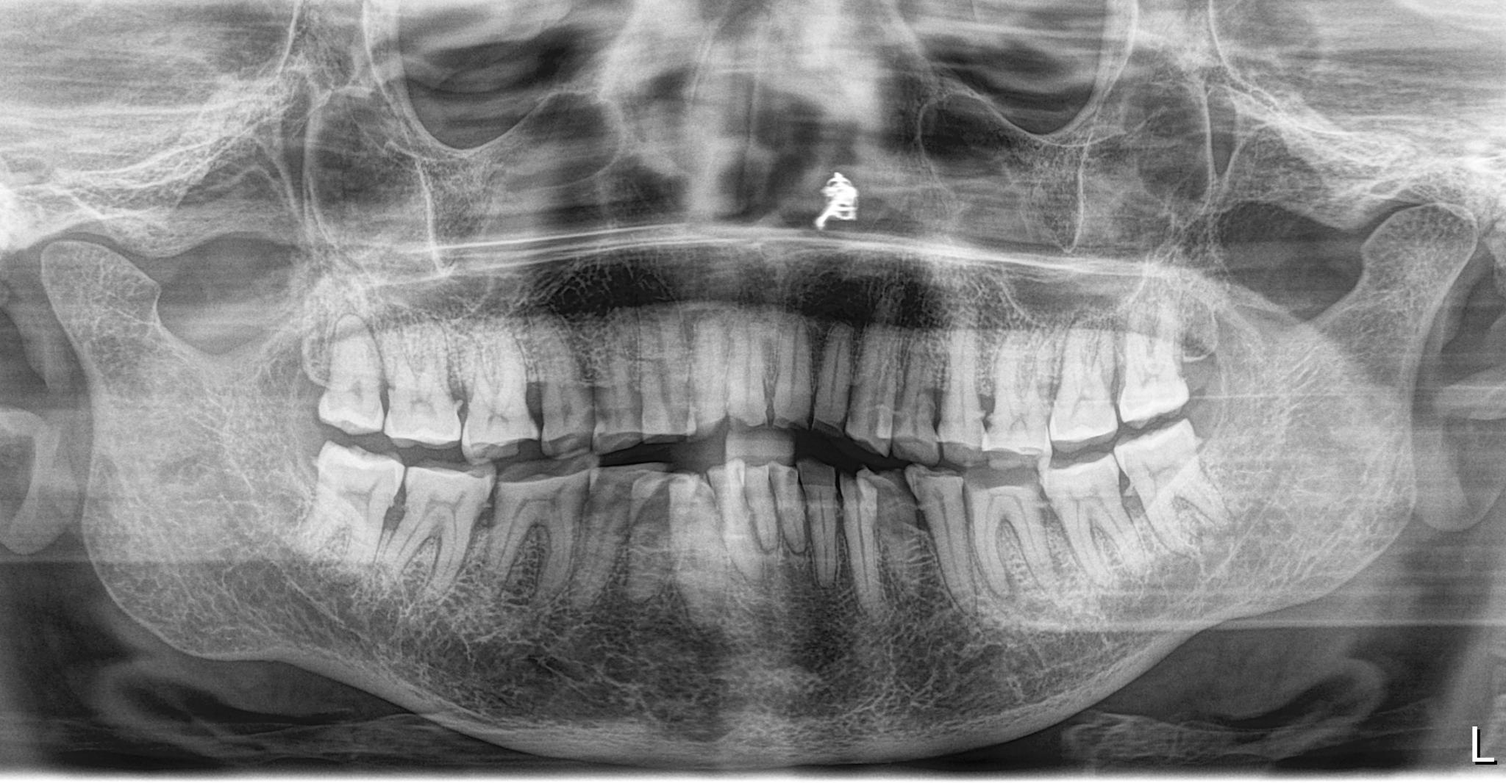Dental Caries: (958, 466, 1070, 501)
Periapical Abnormality: (958, 476, 1061, 626), (313, 312, 392, 441), (746, 463, 823, 575)
